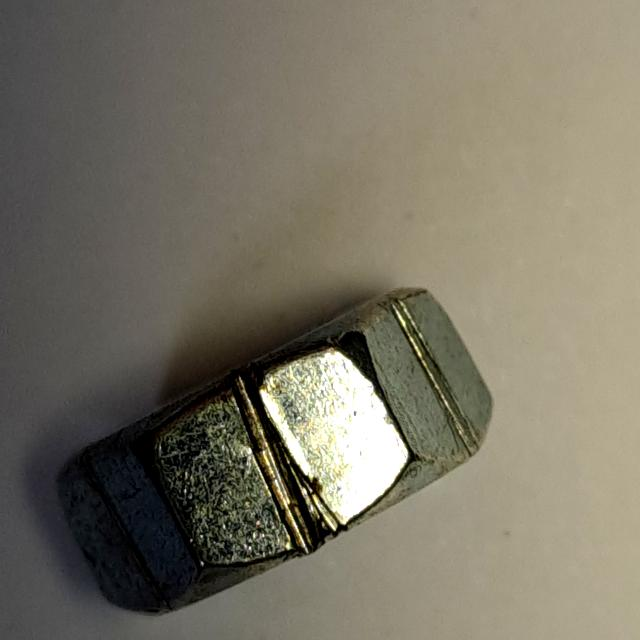Side_Scratches: (42, 278, 505, 628)
